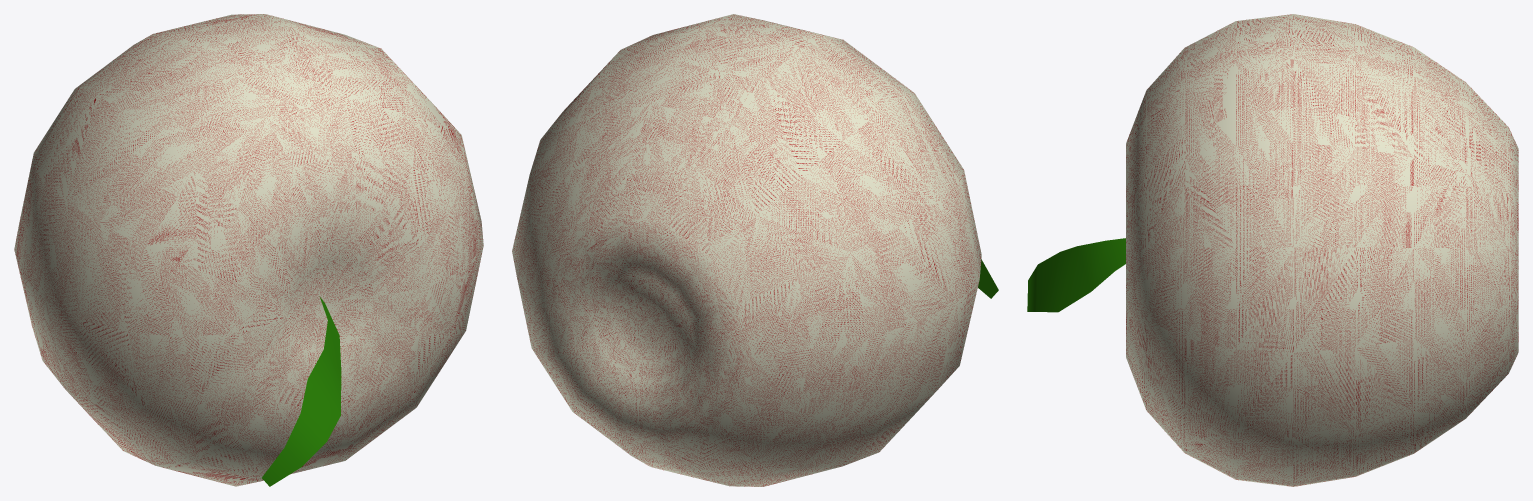
The picture shows the model from 3 angles, left to right: view 1: azimuth 30°, elevation 25°; view 2: azimuth 150°, elevation 25°; view 3: azimuth 270°, elevation 25°; orthographic projection.
Visible parts, largest first — view 1: apple; view 2: apple; view 3: apple.
Part boxes in pixels (box(x1,y1,x2,y2)): apple: box(14, 14, 483, 486); apple: box(512, 14, 998, 486); apple: box(1027, 14, 1518, 486).
Size of the model in its own units: 2.79 by 2.72 by 2.83.
